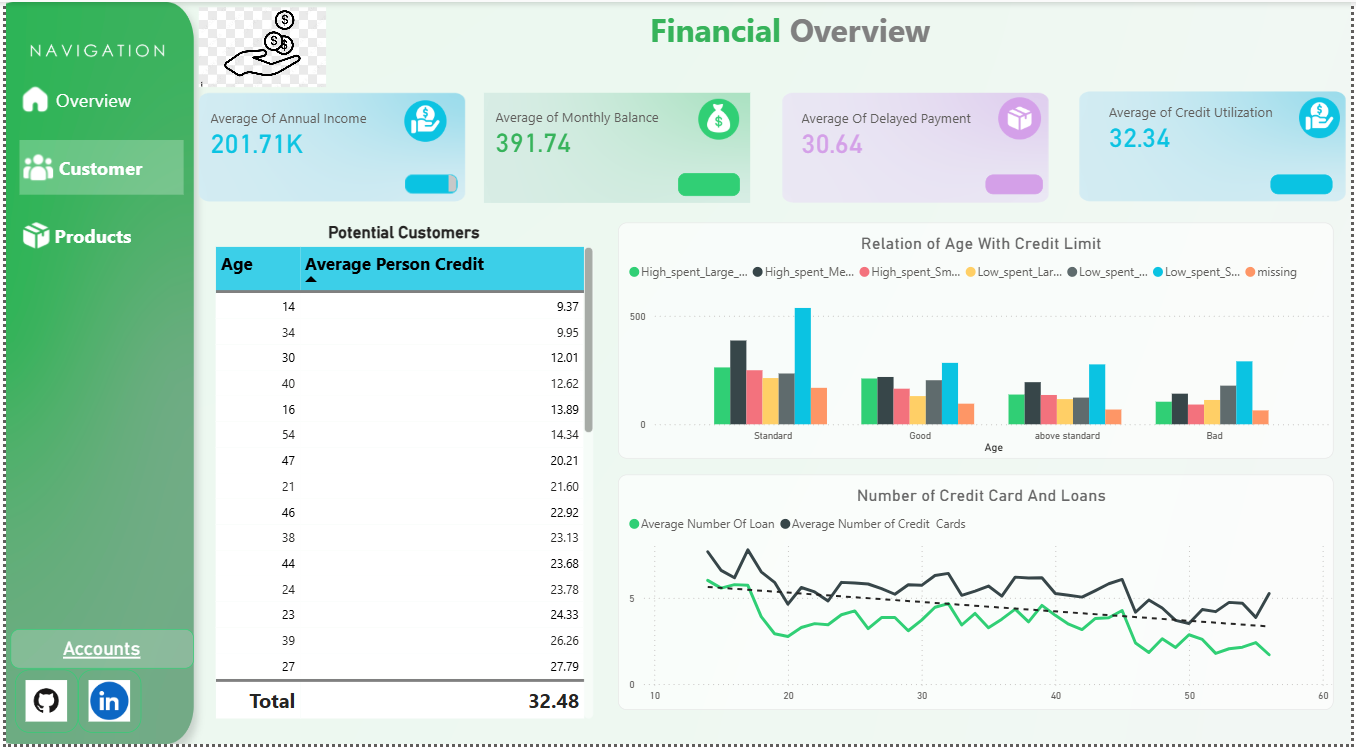

What the dashboard file says about the page in this screenshot:
{"tool":"powerbi","page":{"name":"Customer","canvas":[1360,750],"ordinal":1},"visuals":[{"type":"image","box":[189.1,85.9,279.7,120.3],"z":0,"group":"g2"},{"type":"image","box":[478.1,85.9,279.7,121.9],"z":0},{"type":"image","box":[9,674.6,64.2,64.2],"z":0,"group":"g3"},{"type":"image","box":[0,0,202,750],"z":1000},{"type":"cardVisual","title":"Average Of Annual Income","fields":{"Data":["Avg(combined_df.Annual_Income)"]},"box":[189.1,90.4,196.9,84.2],"z":1000,"group":"g2"},{"type":"image","box":[73.2,674.6,64.2,64.2],"z":1000,"group":"g3"},{"type":"image","box":[779.7,85.9,279.7,121.9],"z":2000},{"type":"image","box":[386,93.4,75,52.6],"z":2000,"group":"g2"},{"type":"textbox","box":[4.5,634.3,185.1,40.3],"z":2000,"group":"g3"},{"type":"textbox","box":[403.2,173.1,53.1,19.6],"z":3000,"group":"g2"},{"type":"clusteredColumnChart","title":"Relation of Age With Credit Limit","fields":{"Category":["combined_df.Credit_Mix"],"Series":["combined_df.Payment_Behaviour"],"Y":["CountNonNull(combined_df.Payment_Behaviour)"]},"box":[618.2,223.4,723.4,239],"z":3000},{"type":"actionButton","box":[10.8,70.6,164.5,54.2],"z":4000},{"type":"image","box":[1079.7,84.4,279.7,121.9],"z":5000},{"type":"actionButton","box":[13.8,139.3,165.9,55.3],"z":6000},{"type":"shape","box":[0,72.6,188.9,51.8],"z":7000},{"type":"textbox","box":[1278.1,175,62.5,20.3],"z":8000},{"type":"textbox","box":[990.6,175,57.8,20.3],"z":9000},{"type":"textbox","box":[679.7,173.4,62.8,23.1],"z":9500,"group":"g1"},{"type":"actionButton","box":[9.2,209.1,164.8,54.1],"z":10000},{"type":"textbox","box":[646.3,0,346.3,59.7],"z":11000},{"type":"image","box":[16.1,35.7,150.9,30],"z":12000},{"type":"image","box":[693.8,92.2,51.6,51.6],"z":13000},{"type":"image","box":[1296.9,90.6,62.5,51.6],"z":14000},{"type":"image","box":[992.2,90.6,65.6,53.1],"z":15000},{"type":"cardVisual","fields":{"Data":["Avg(combined_df.Monthly_Balance)"]},"box":[478.1,89.1,215.6,85.9],"z":16000},{"type":"group","id":"g1","title":"Group 1","box":[679.7,173.4,62.5,23.4],"z":17000},{"type":"cardVisual","fields":{"Data":["Avg(combined_df.Num_of_Delayed_Payment)"]},"box":[787.5,90.6,220.3,84.4],"z":18000},{"type":"cardVisual","fields":{"Data":["Avg(combined_df.Credit_Utilization_Ratio)"]},"box":[1098.4,84.4,203.1,84.4],"z":19000},{"type":"lineChart","title":"Number of Credit Card And Loans","fields":{"Category":["combined_df.age_c"],"Y":["Avg(combined_df.no of loan)","Avg(combined_df.nu of banks accounts)"]},"box":[619,477.3,723.6,237.8],"z":20000},{"type":"group","id":"g2","title":"Group 2","box":[189.1,85.9,279.7,120.3],"z":21000},{"type":"tableEx","title":"Potential Customers","fields":{"Values":["combined_df.age_c","All Measures.person_average"]},"box":[206.5,223.4,392.2,506.5],"z":22000},{"type":"image","box":[189.6,0,138.8,91],"z":23000},{"type":"group","id":"g3","title":"Group 3","box":[4.5,634.3,185.1,104.5],"z":23001}]}

Visuals, with their boxes in screenshot pixels (x1, y1, x2, y2), scaled from the page's 1360x750 canvas onto the 1356x747 screenshot:
image: bbox=[189, 86, 467, 205]
image: bbox=[477, 86, 756, 207]
image: bbox=[9, 672, 73, 736]
image: bbox=[0, 0, 201, 746]
"Average Of Annual Income" cardVisual: bbox=[189, 90, 385, 174]
image: bbox=[73, 672, 137, 736]
image: bbox=[777, 86, 1056, 207]
image: bbox=[385, 93, 460, 145]
textbox: bbox=[4, 632, 189, 672]
textbox: bbox=[402, 172, 455, 192]
"Relation of Age With Credit Limit" clusteredColumnChart: bbox=[616, 223, 1338, 461]
actionButton: bbox=[11, 70, 175, 124]
image: bbox=[1077, 84, 1355, 205]
actionButton: bbox=[14, 139, 179, 194]
shape: bbox=[0, 72, 188, 124]
textbox: bbox=[1274, 174, 1337, 195]
textbox: bbox=[988, 174, 1045, 195]
textbox: bbox=[678, 173, 740, 196]
actionButton: bbox=[9, 208, 173, 262]
textbox: bbox=[644, 0, 990, 59]
image: bbox=[16, 36, 167, 65]
image: bbox=[692, 92, 743, 143]
image: bbox=[1293, 90, 1355, 142]
image: bbox=[989, 90, 1055, 143]
cardVisual - Avg(combined_df.Monthly_Balance): bbox=[477, 89, 692, 174]
"Group 1" group: bbox=[678, 173, 740, 196]
cardVisual - Avg(combined_df.Num_of_Delayed_Payment): bbox=[785, 90, 1005, 174]
cardVisual - Avg(combined_df.Credit_Utilization_Ratio): bbox=[1095, 84, 1298, 168]
"Number of Credit Card And Loans" lineChart: bbox=[617, 475, 1339, 712]
"Group 2" group: bbox=[189, 86, 467, 205]
"Potential Customers" tableEx: bbox=[206, 223, 597, 727]
image: bbox=[189, 0, 327, 91]
"Group 3" group: bbox=[4, 632, 189, 736]
